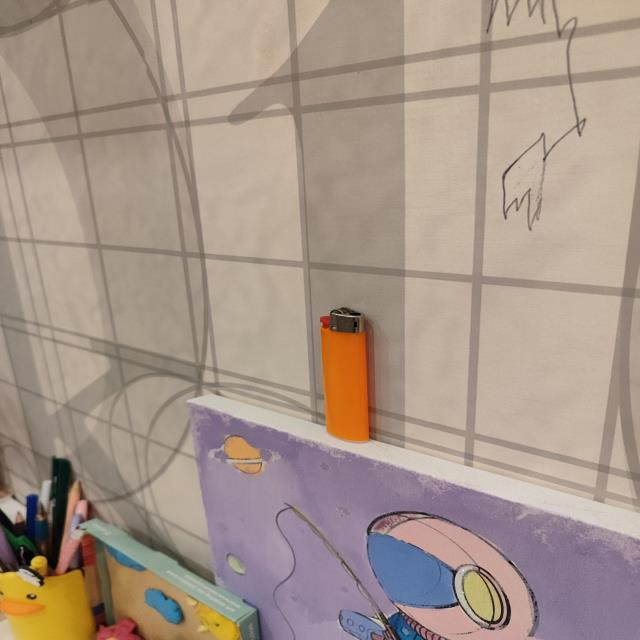lighter: (320, 307, 371, 441)
